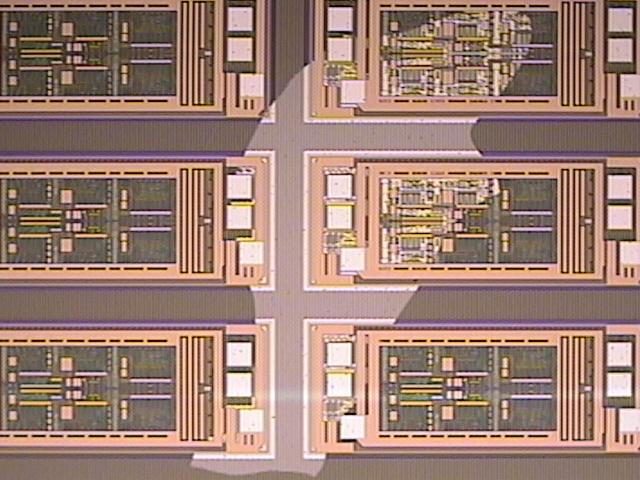BLOCK ETCH: (189, 6, 535, 480)
